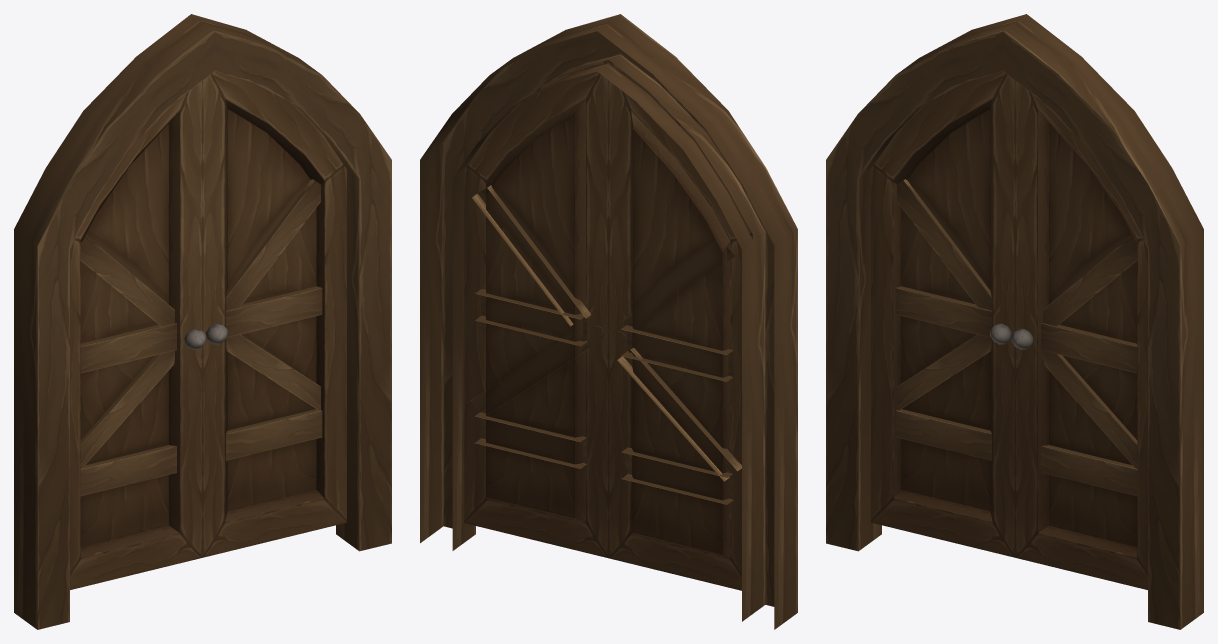
The model's file is Door_fake_2.FBX.
The picture shows the model from 3 angles, left to right: view 1: azimuth 30°, elevation 25°; view 2: azimuth 150°, elevation 25°; view 3: azimuth 330°, elevation 25°; orthographic projection.
Visible parts, largest first — view 1: Door_fake_2; view 2: Door_fake_2; view 3: Door_fake_2.
Boxes of the visible parts, x1=… form: Door_fake_2: x1=14, y1=14, x2=391, y2=629; Door_fake_2: x1=420, y1=14, x2=797, y2=629; Door_fake_2: x1=826, y1=14, x2=1203, y2=629.
Size of the model in its own units: 1705 by 2555 by 196.
